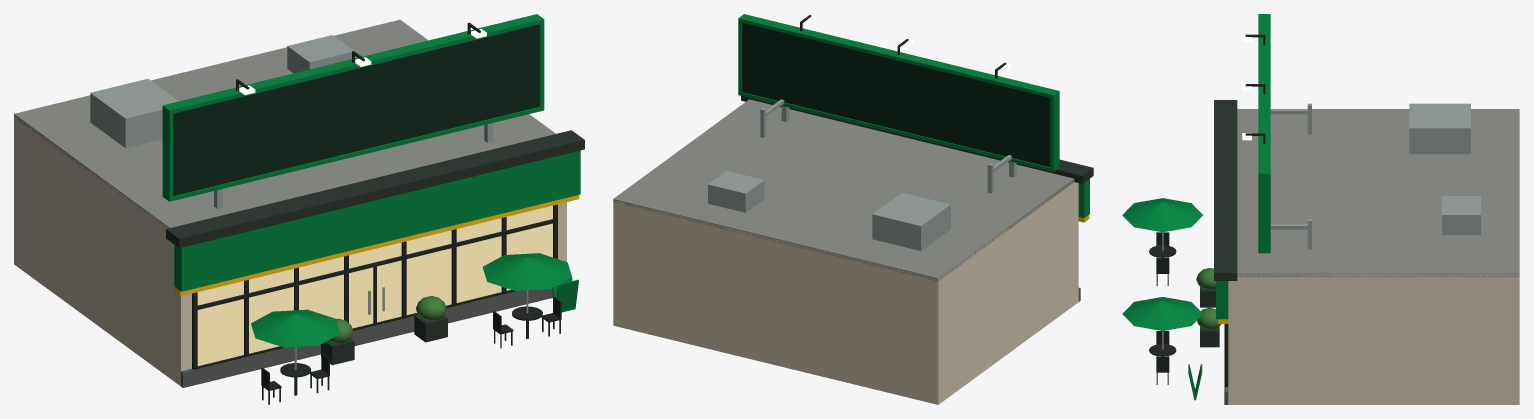
Rendered from store.glb.
The picture shows the model from 3 angles, left to right: view 1: azimuth 30°, elevation 25°; view 2: azimuth 150°, elevation 25°; view 3: azimuth 270°, elevation 25°; orthographic projection. The views are drawn at different scales.
Visible parts, largest first — view 1: Store_SignBoard, Store_SubwayGreen, Store_Stucco, Store_Roof, Store_ShopGlass, Store_DarkTrim, Store_Frame, Store_Steel, Store_Umbrella, Store_Stone, Store_SubwayYellow, Store_Shrub; view 2: Store_Stucco, Store_Roof, Store_SignBoard, Store_Steel, Store_SubwayGreen, Store_DarkTrim; view 3: Store_Roof, Store_Stucco, Store_Steel, Store_DarkTrim, Store_Umbrella, Store_SubwayGreen, Store_Frame, Store_Shrub.
Boxes of the visible parts, x1,y1,x2,y2 form: Store_SignBoard: [173, 24, 539, 195]; Store_SubwayGreen: [162, 14, 580, 312]; Store_Stucco: [14, 115, 566, 386]; Store_Roof: [14, 19, 555, 228]; Store_ShopGlass: [197, 205, 552, 365]; Store_DarkTrim: [166, 130, 584, 365]; Store_Frame: [192, 22, 561, 404]; Store_Steel: [90, 35, 528, 369]; Store_Umbrella: [251, 253, 571, 347]; Store_Stone: [181, 288, 552, 387]; Store_SubwayYellow: [174, 195, 579, 296]; Store_Shrub: [328, 296, 446, 344]; Store_Stucco: [613, 182, 1078, 404]; Store_Roof: [613, 99, 1074, 281]; Store_SignBoard: [742, 22, 1050, 166]; Store_Steel: [708, 99, 1016, 250]; Store_SubwayGreen: [738, 14, 1089, 217]; Store_DarkTrim: [741, 96, 1093, 183]; Store_Roof: [1237, 109, 1519, 276]; Store_Stucco: [1228, 274, 1519, 404]; Store_Steel: [1162, 103, 1480, 349]; Store_DarkTrim: [1200, 100, 1237, 347]; Store_Umbrella: [1122, 198, 1202, 330]; Store_SubwayGreen: [1188, 14, 1270, 400]; Store_Frame: [1149, 34, 1265, 386]; Store_Shrub: [1196, 268, 1221, 329].
Bounding box in the file's own units: 12.6 × 8.1 × 12.25.
